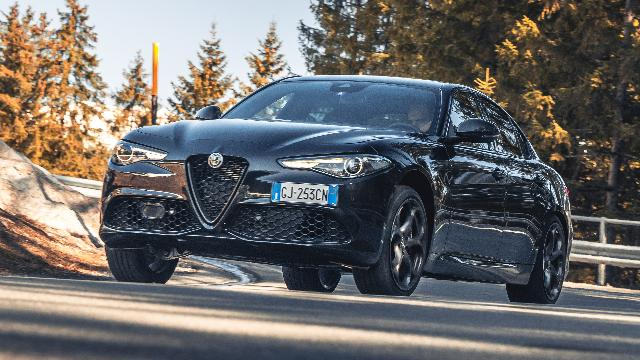alpha-romeo: (98, 74, 572, 306)
